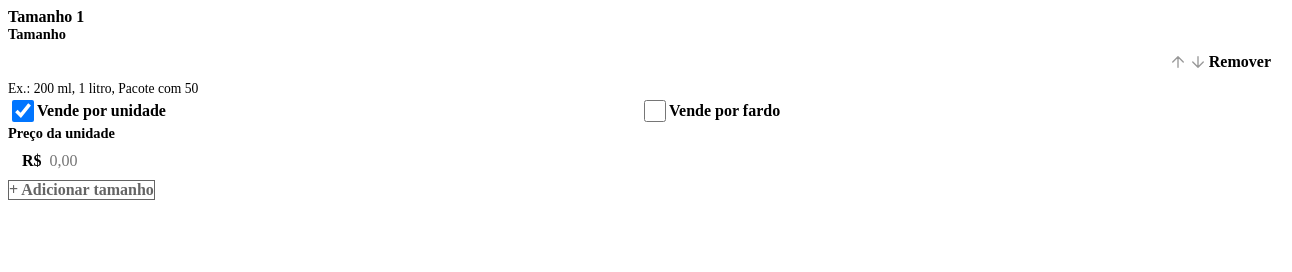
Test: EditorVariacoes › cada tamanho começa vendendo por unidade; fardo só mostra campos depois de marcado
This screenshot has width=1292, height=272.
Check: the field labelled "Preço da unidade" is shown, box [42,142,640,180]
Check: the field labelled "Quantidade por fardo" is not shown
Click the checkbox labelled "Vende por fardo". click: {"x": 655, "y": 111}
box: [644,100,666,122]
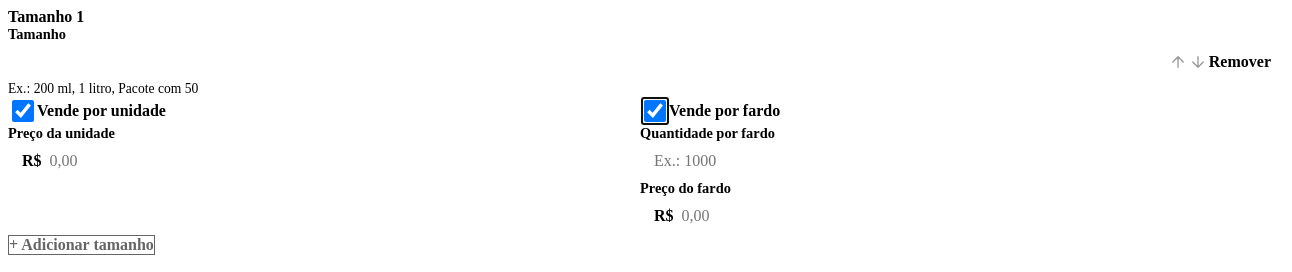
Check: the field labelled "Preço do fardo" is shown, box [674,197,1272,235]
